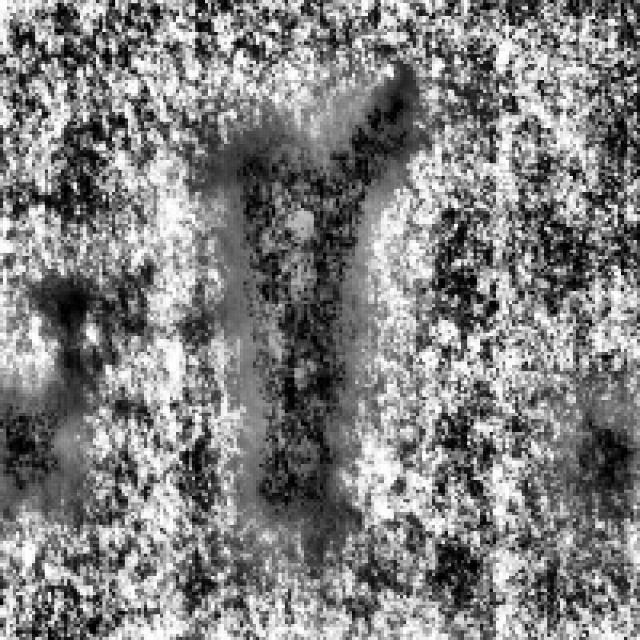Scratches: (227, 61, 429, 541), (3, 368, 80, 499), (570, 393, 640, 486)
